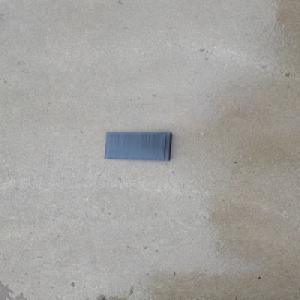PlasticPart: (103, 130, 173, 161)
